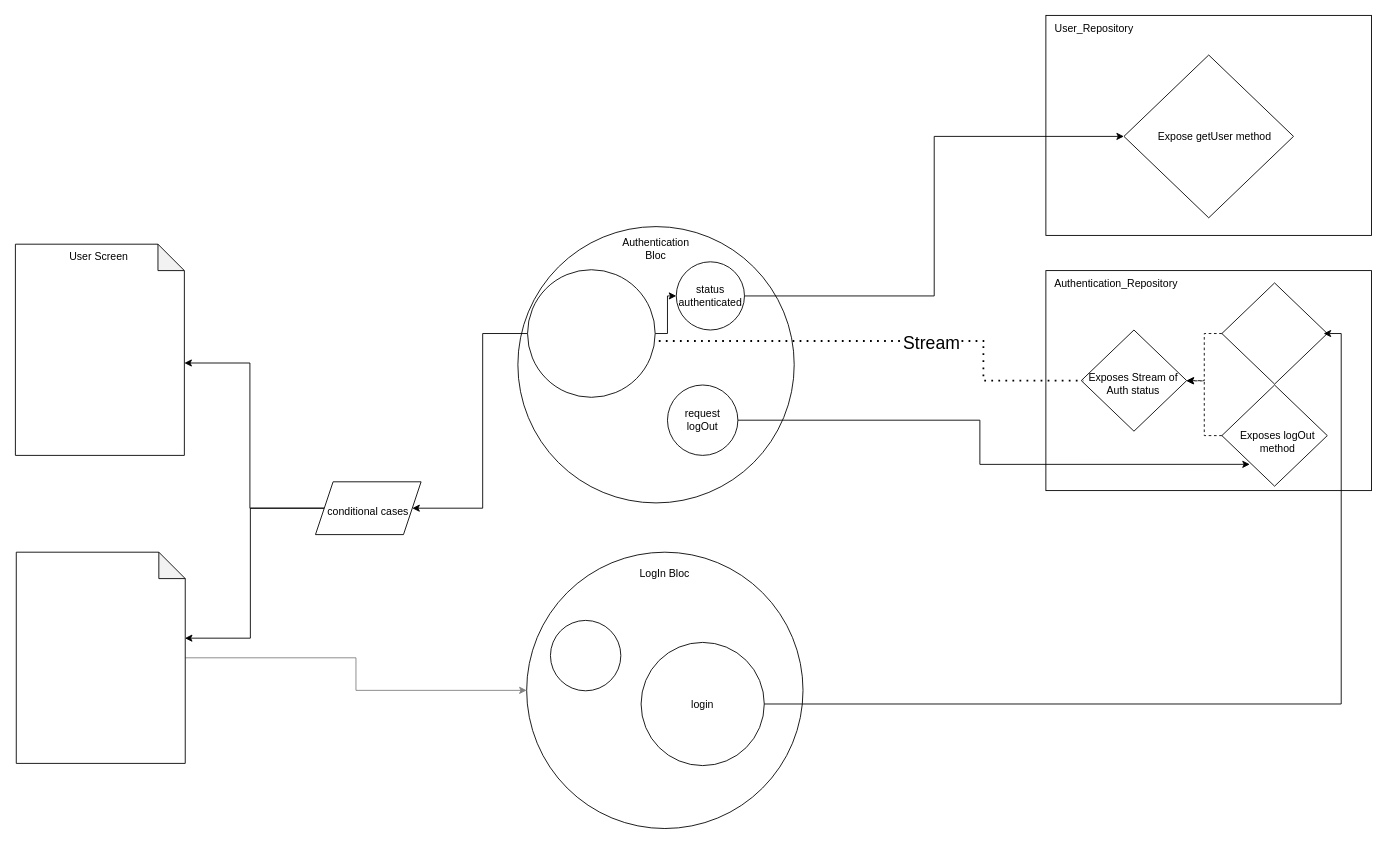
Some shapes in this 1387 by 844 pixel diagram are drawn without their labels. Here are the shapes that lost their labels. From the top down, the centre of each, then its label:
the point at 591,333: listen on Authentication_Repository Stream Status change
the point at 1274,333: Exposes logIn method
the point at 100,657: LogIn Screen
the point at 585,655: validate forms
